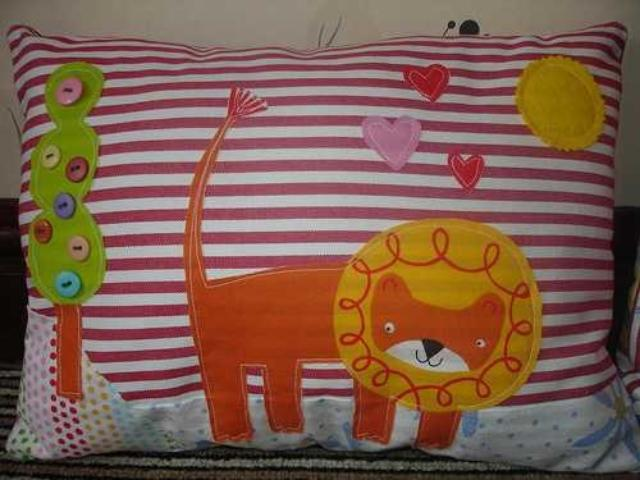pillow: (3, 19, 635, 470)
